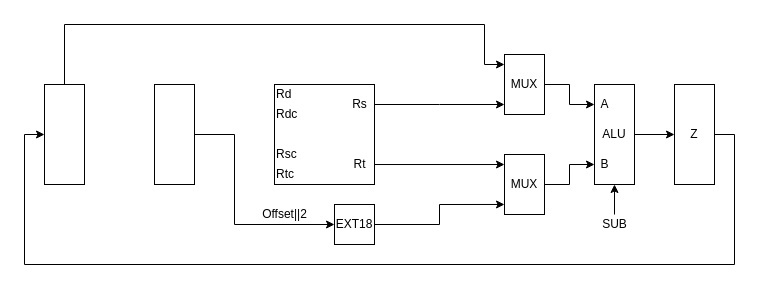
Some shapes in this 760 by 290 pixel diagram are drawn without their labels. The box of each missing label's shape, as (x1, y1, x2, y2) in pixels:
IR: (154, 84, 194, 184)
PC: (44, 84, 84, 184)
RegFile: (274, 84, 374, 184)
